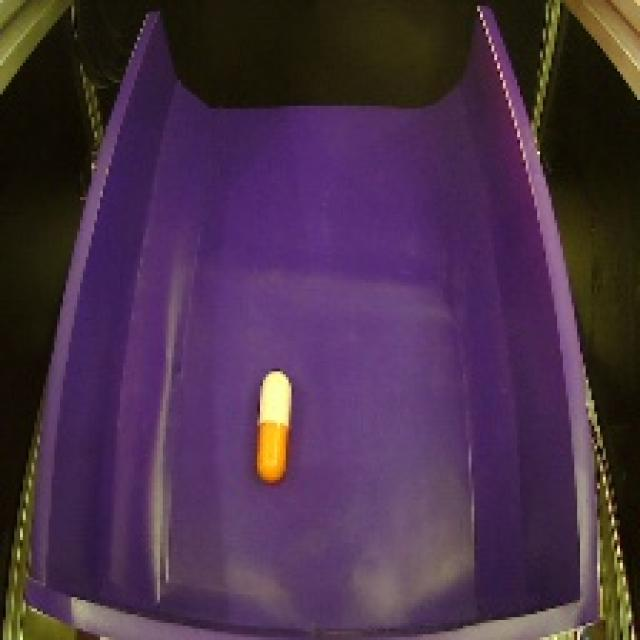small: (250, 361, 296, 485)
